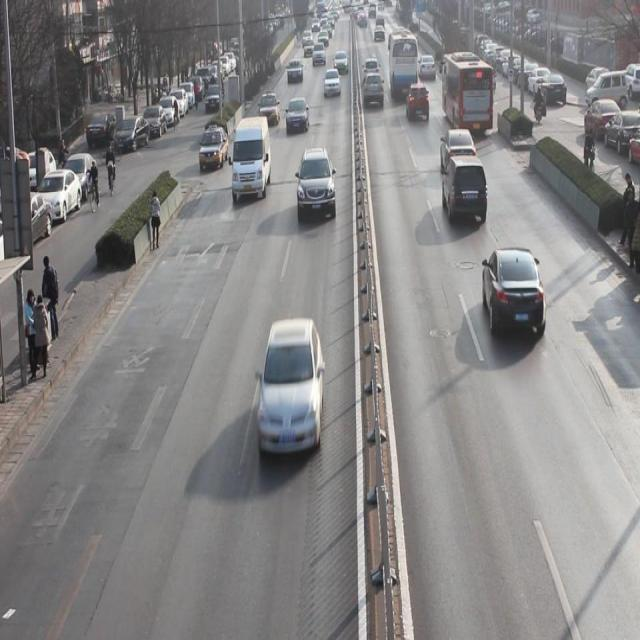car: (263, 321, 326, 458), (481, 247, 547, 347), (442, 155, 489, 223), (297, 146, 338, 223), (440, 126, 477, 174), (198, 127, 230, 174), (406, 81, 430, 124), (286, 96, 311, 136), (256, 91, 279, 126), (365, 74, 386, 110), (418, 52, 436, 84), (363, 58, 380, 87), (324, 69, 341, 96), (287, 58, 304, 85), (312, 42, 326, 67), (333, 53, 348, 73)
truck: (233, 117, 272, 207)
van: (441, 52, 492, 134), (388, 29, 418, 100)
